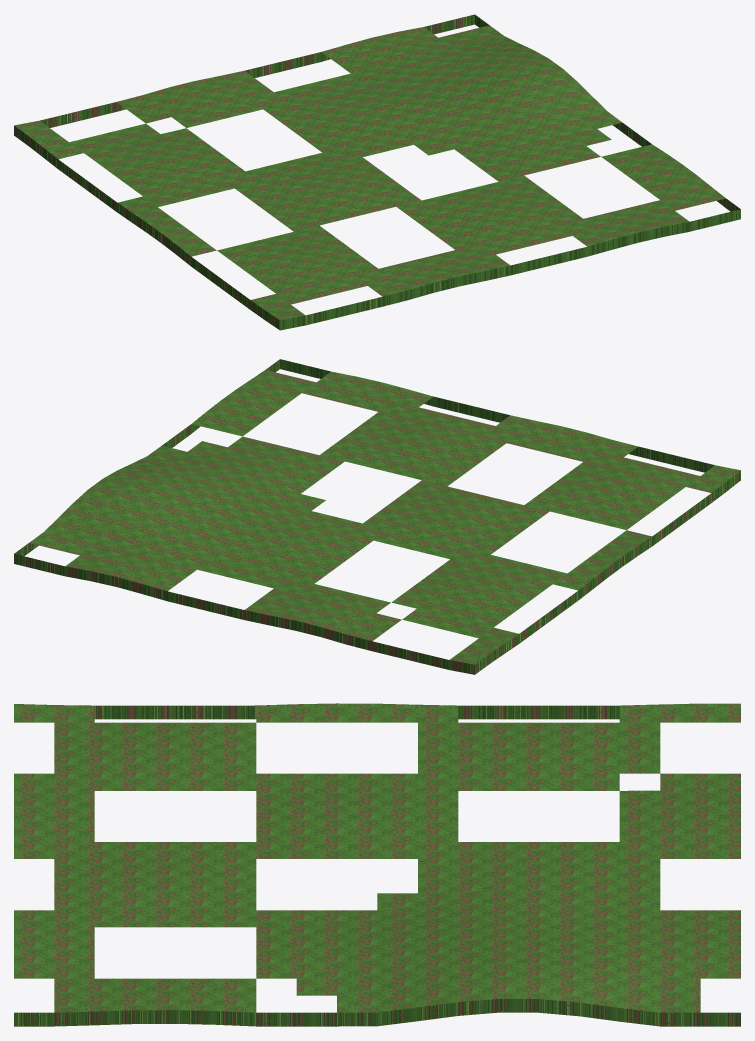
The model's file is rv_terrain_03.gltf.
The picture shows the model from 3 angles, top to bottom: view 1: azimuth 30°, elevation 25°; view 2: azimuth 150°, elevation 25°; view 3: azimuth 270°, elevation 25°; orthographic projection. The views are drawn at different scales.
Parts seen in each view (by area): view 1: RV_Terrain_03; view 2: RV_Terrain_03; view 3: RV_Terrain_03.
Part boxes in pixels (x1,y1,x2,y2): RV_Terrain_03: [14, 14, 740, 330]; RV_Terrain_03: [14, 359, 740, 674]; RV_Terrain_03: [14, 703, 740, 1026].
Size of the model in its own units: 72 by 3.26 by 72.
2 materials, 1 textured.
